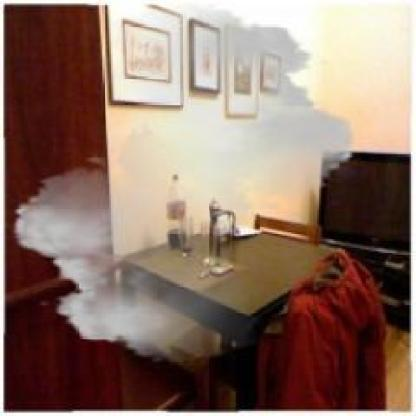Smoke: (1, 3, 366, 362)
